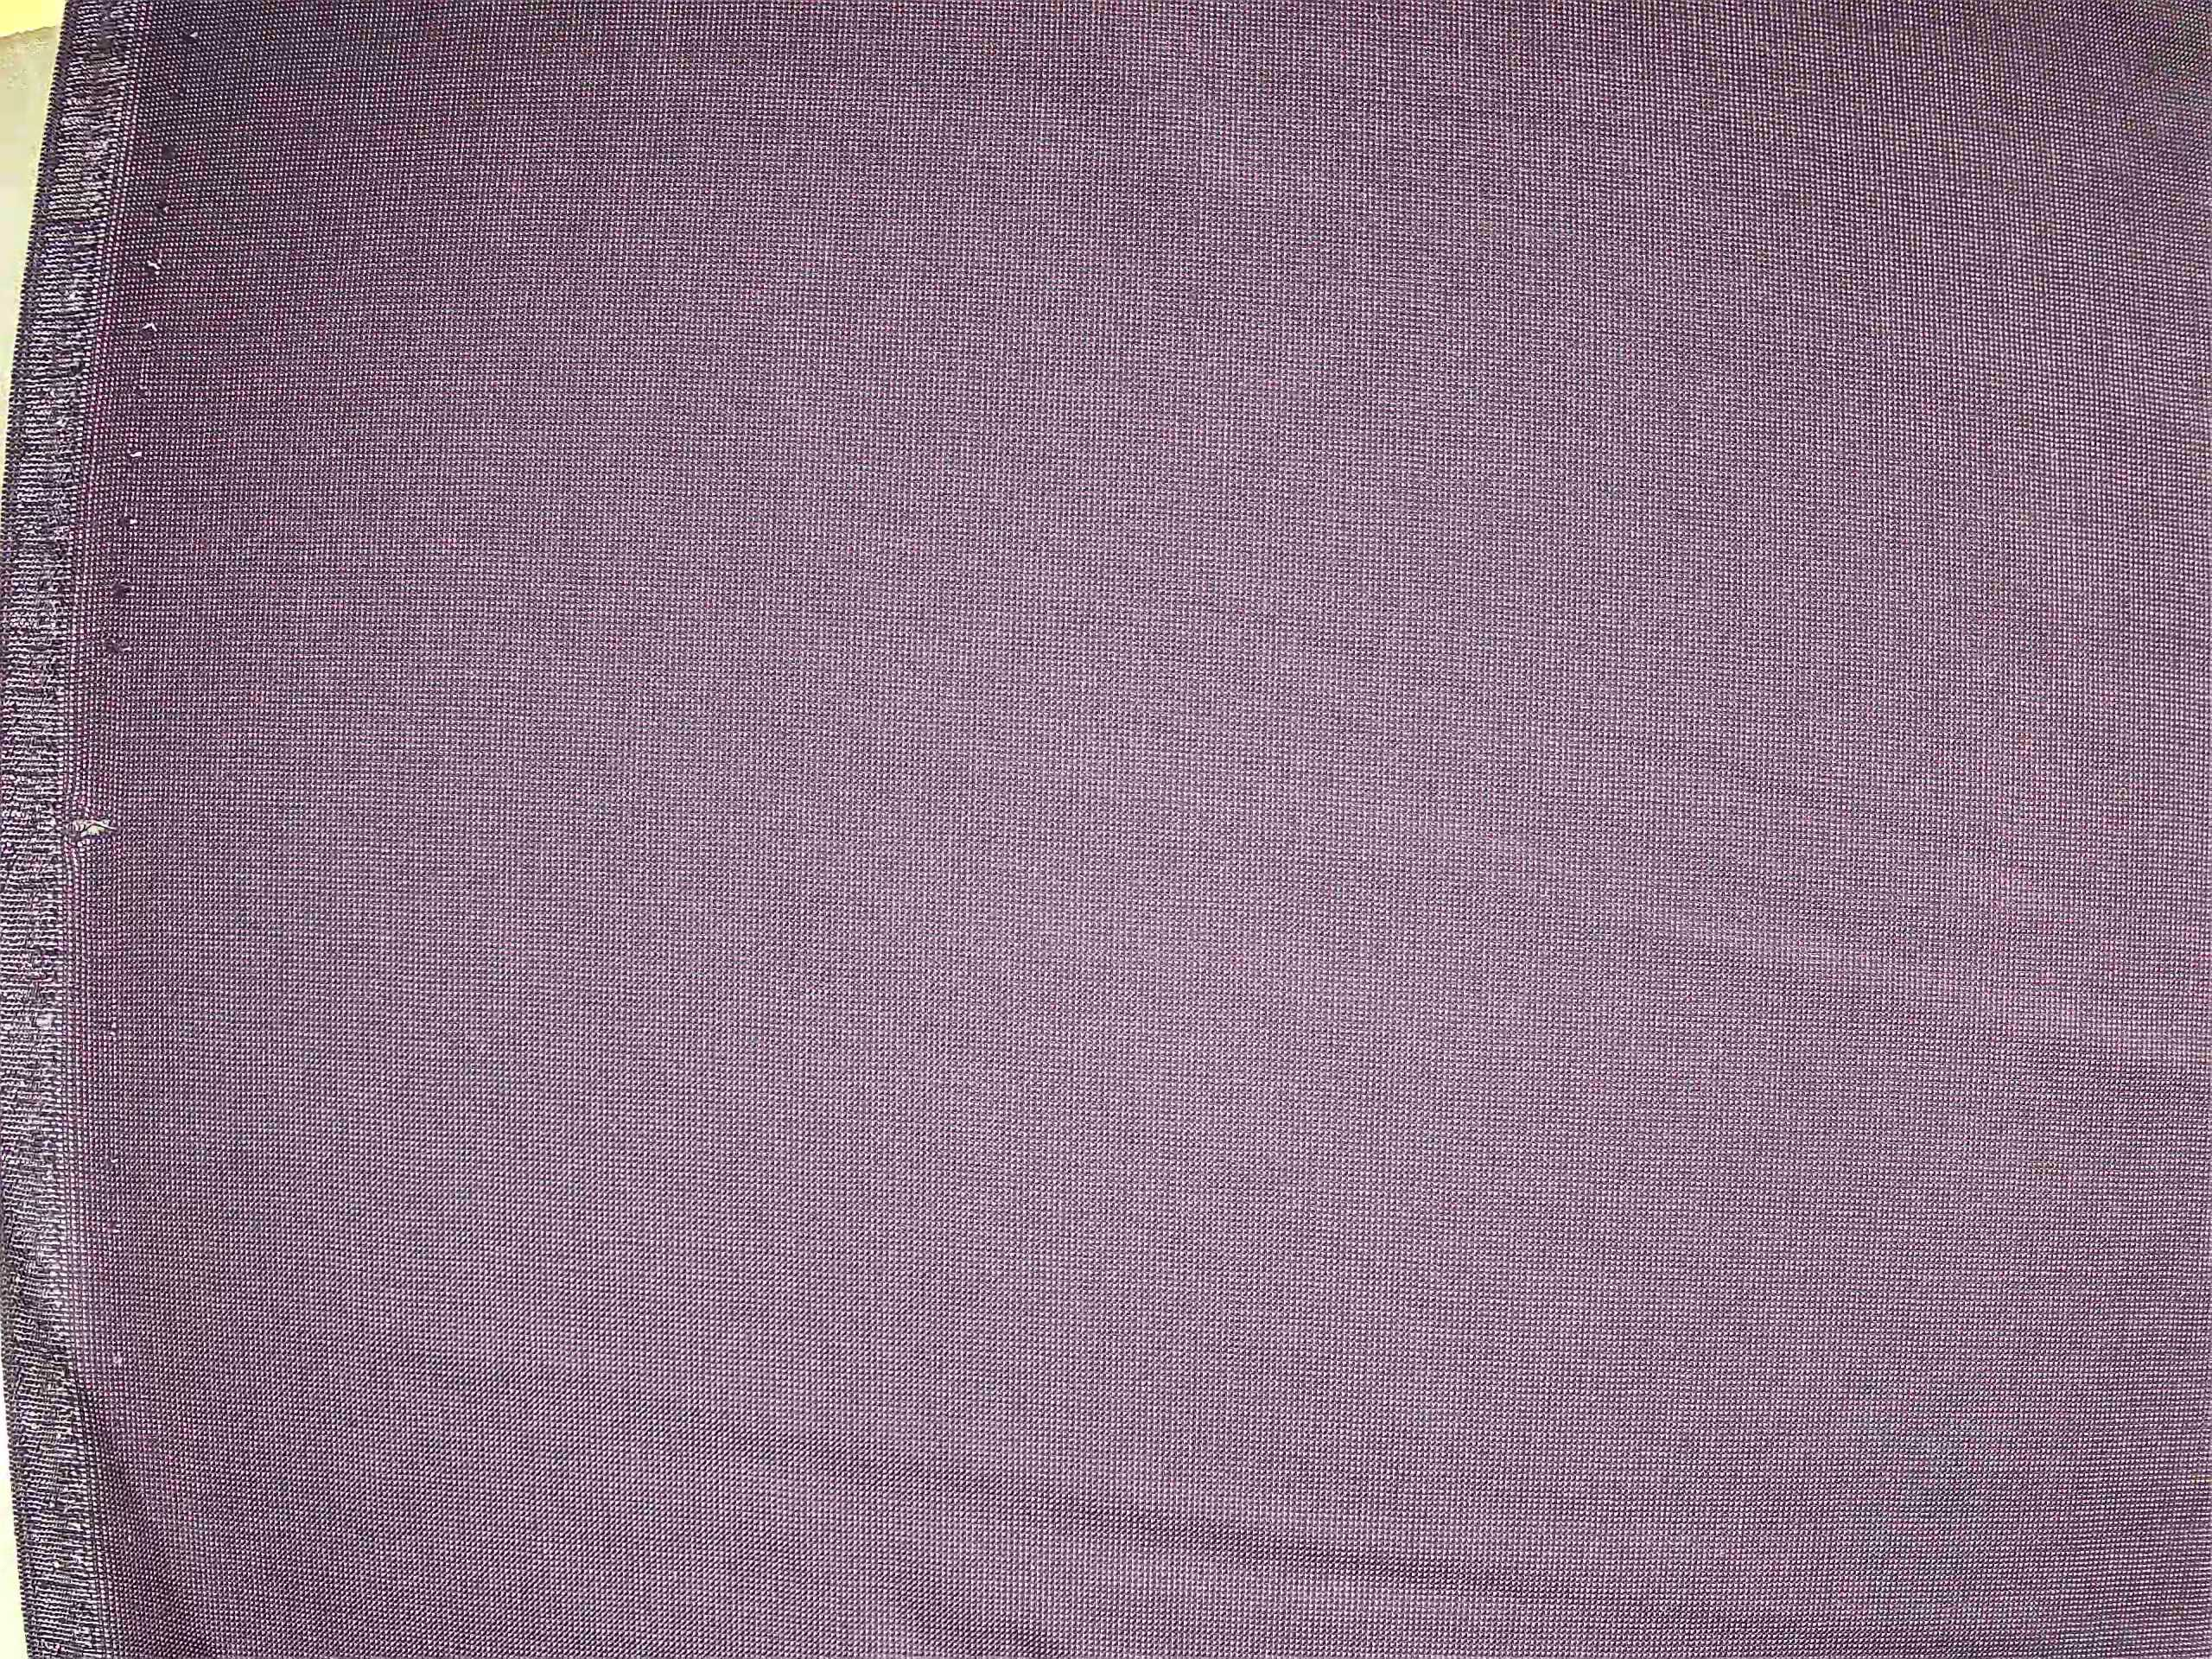puncture-hole: (106, 10, 214, 692), (52, 788, 134, 857)
